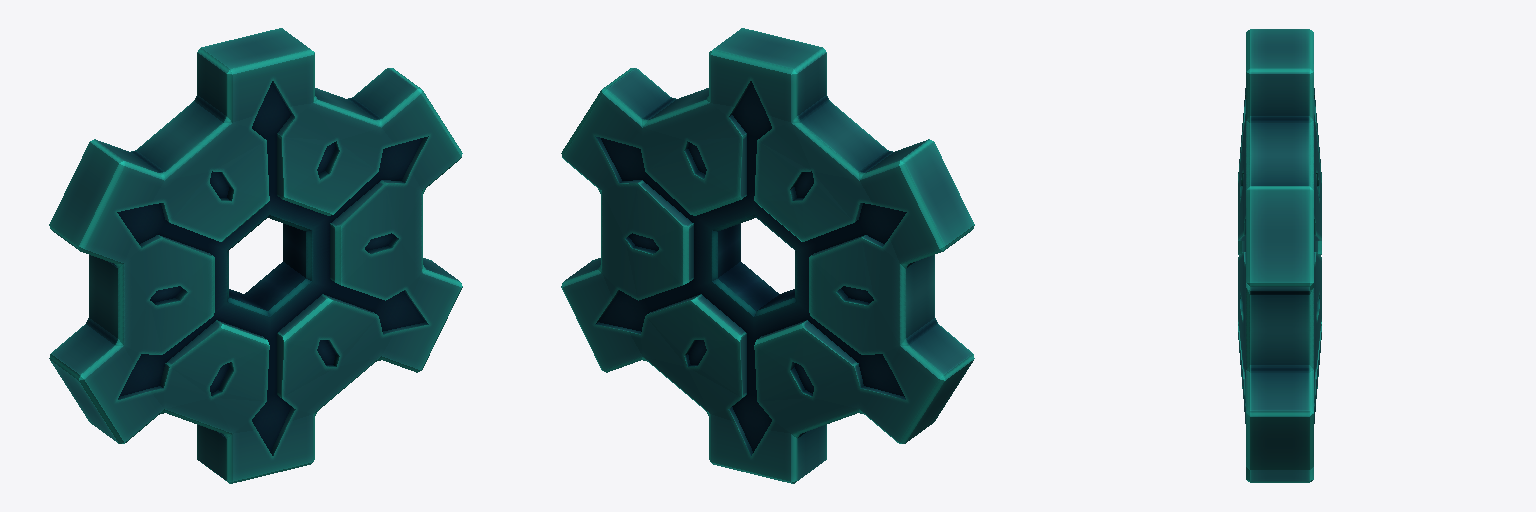
3 renders of one model, left to right at view 1: azimuth 30°, elevation 25°; view 2: azimuth 150°, elevation 25°; view 3: azimuth 270°, elevation 25°, orthographic.
Parts seen in each view (by area): view 1: Gear; view 2: Gear; view 3: Gear.
Boxes of the visible parts, x1=… form: Gear: x1=49, y1=28, x2=462, y2=483; Gear: x1=561, y1=28, x2=974, y2=483; Gear: x1=1238, y1=29, x2=1321, y2=482.
Bounding box in the file's own units: 105 × 108 × 19.86.
1 materials, 1 textured.